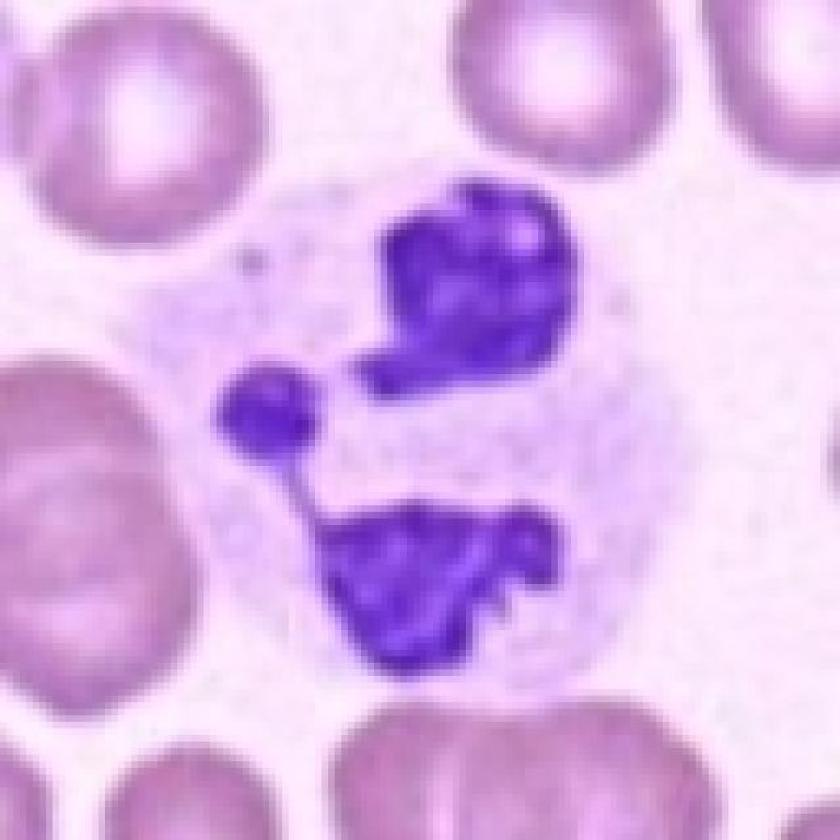neutrophil: (147, 180, 688, 686)
